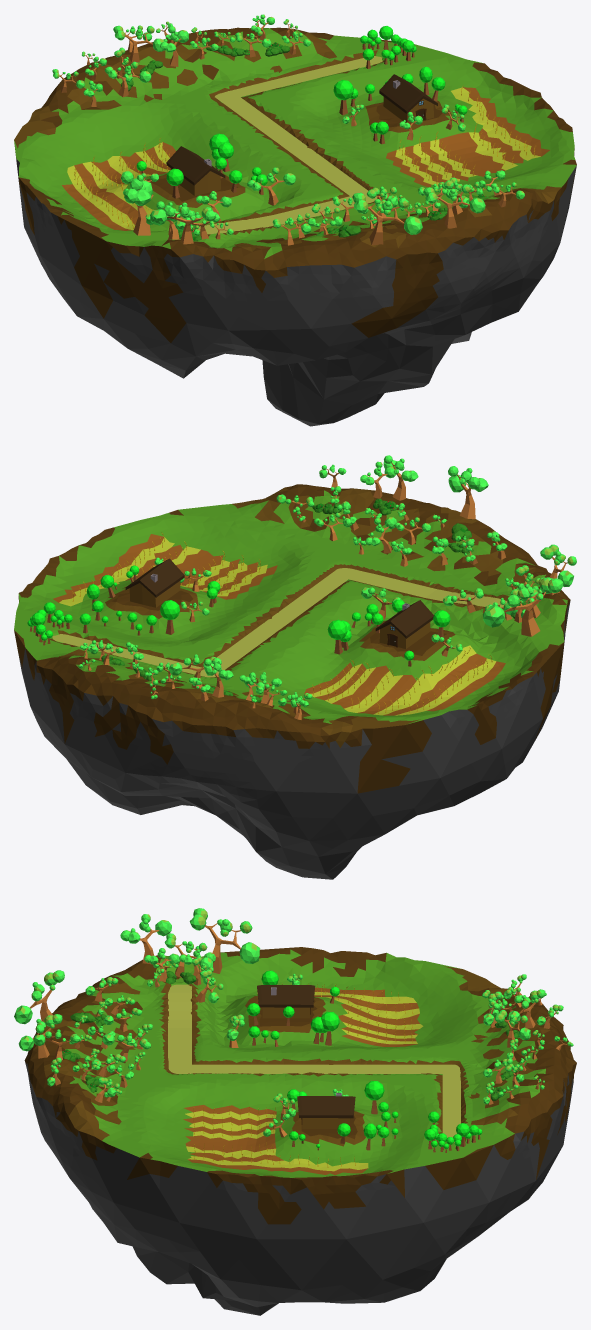
File: FirstLevelTerrain.fbx
3 renders of one model, top to bottom at view 1: azimuth 30°, elevation 25°; view 2: azimuth 150°, elevation 25°; view 3: azimuth 270°, elevation 25°, orthographic. The views are drawn at different scales.
Visible parts, largest first — view 1: Island, BetterRoad, SimpleHouse.002, SimpleHouse.001, SimpleTreeMoreBranches.034, SimpleTreeMoreBranches.030, SimpleTreeMoreBranches.028, SimpleTreeMoreBranches.045, SimpleTreeMoreBranches.022, SimpleTreeMoreBranches.053, SimpleTreeMoreBranches.016, SimpleTreeMoreBranches.012; view 2: Island, BetterRoad, SimpleHouse.001, SimpleHouse.002, SimpleTreeMoreBranches.030, SimpleTreeMoreBranches.034, SimpleTreeMoreBranches.028, SimpleTreeMoreBranches.045; view 3: Island, BetterRoad, SimpleHouse.002, SimpleHouse.001, SimpleTreeMoreBranches.030, SimpleTreeMoreBranches.034, SimpleTreeMoreBranches.028, SimpleTreeMoreBranches.045, SimpleTreeMoreBranches.025, SimpleTreeMoreBranches.012, SimpleTreeMoreBranches.022.
Boxes of the visible parts, box(x1,y1,x2,y2) form: Island: box(14, 27, 576, 426); BetterRoad: box(197, 56, 382, 234); SimpleHouse.002: box(379, 74, 437, 123); SimpleHouse.001: box(166, 146, 225, 195); SimpleTreeMoreBranches.034: box(352, 192, 422, 245); SimpleTreeMoreBranches.030: box(120, 171, 152, 235); SimpleTreeMoreBranches.028: box(150, 202, 216, 244); SimpleTreeMoreBranches.045: box(423, 184, 485, 228); SimpleTreeMoreBranches.022: box(113, 25, 164, 62); SimpleTreeMoreBranches.053: box(247, 167, 295, 205); SimpleTreeMoreBranches.016: box(104, 61, 151, 97); SimpleTreeMoreBranches.012: box(160, 26, 188, 66); Island: box(14, 484, 570, 879); BetterRoad: box(52, 568, 507, 677); SimpleHouse.001: box(375, 600, 433, 648); SimpleHouse.002: box(125, 558, 184, 607); SimpleTreeMoreBranches.030: box(483, 577, 563, 636); SimpleTreeMoreBranches.034: box(448, 466, 488, 519); SimpleTreeMoreBranches.028: box(540, 544, 576, 595); SimpleTreeMoreBranches.045: box(383, 455, 418, 500); Island: box(24, 947, 576, 1315); BetterRoad: box(168, 984, 460, 1142); SimpleHouse.002: box(297, 1093, 355, 1128); SimpleHouse.001: box(257, 985, 315, 1018); SimpleTreeMoreBranches.030: box(189, 908, 260, 973); SimpleTreeMoreBranches.034: box(14, 970, 64, 1024); SimpleTreeMoreBranches.028: box(120, 914, 171, 964); SimpleTreeMoreBranches.045: box(18, 1014, 62, 1058); SimpleTreeMoreBranches.025: box(164, 933, 212, 977); SimpleTreeMoreBranches.012: box(494, 1010, 530, 1047); SimpleTreeMoreBranches.022: box(507, 989, 545, 1028).
Size of the model in its own units: 6000 by 3627 by 6132.
